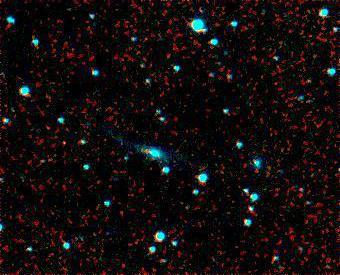star: (49, 139, 79, 169)
